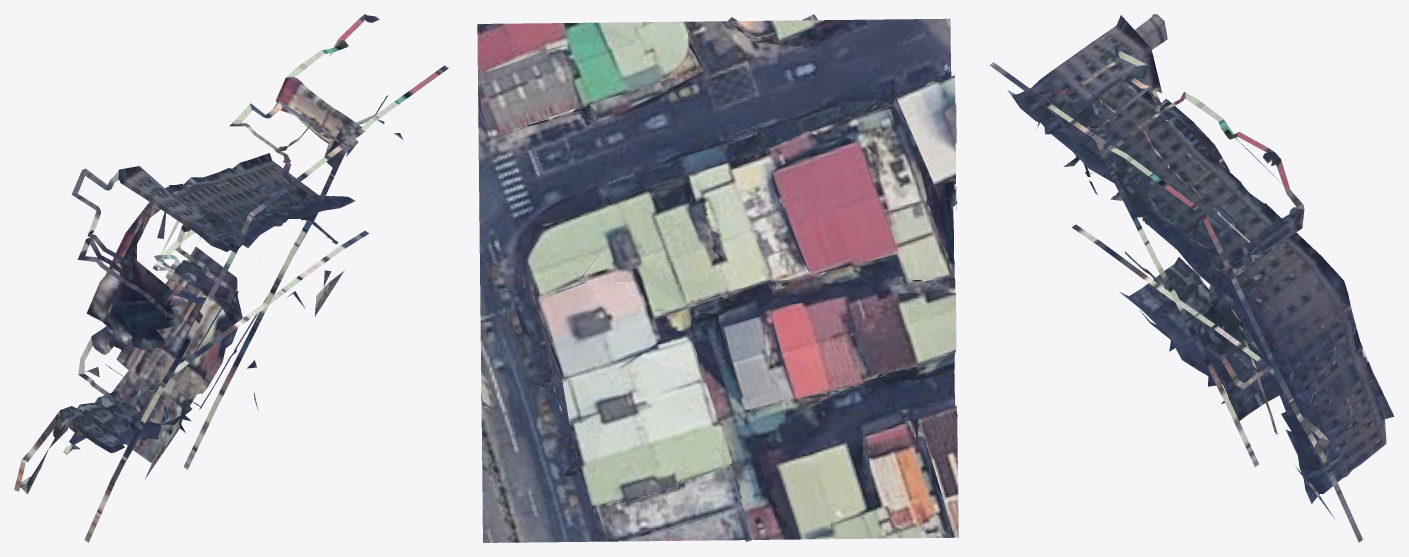
3 renders of one model, left to right at view 1: azimuth 30°, elevation 25°; view 2: azimuth 150°, elevation 25°; view 3: azimuth 270°, elevation 25°, orthographic. The views are drawn at different scales.
Bounding box in the file's own units: 83.81 × 76.54 × 68.77.
Materials: 1 (1 with a texture image).
